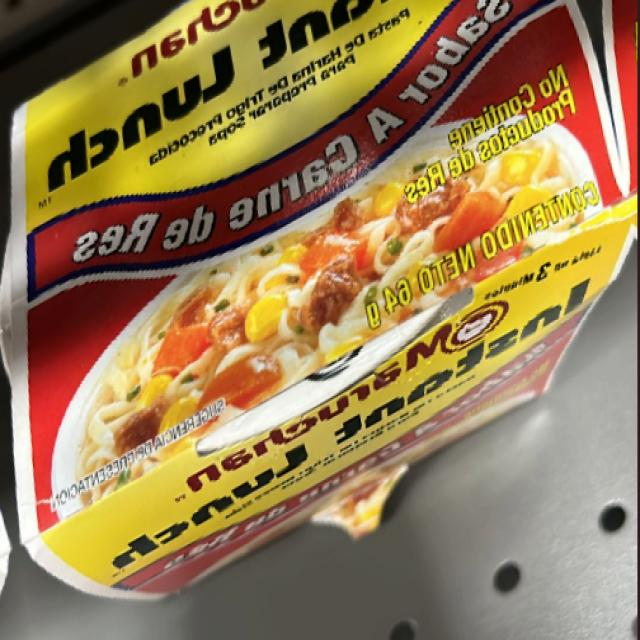maruchanRes: (18, 2, 572, 408)
